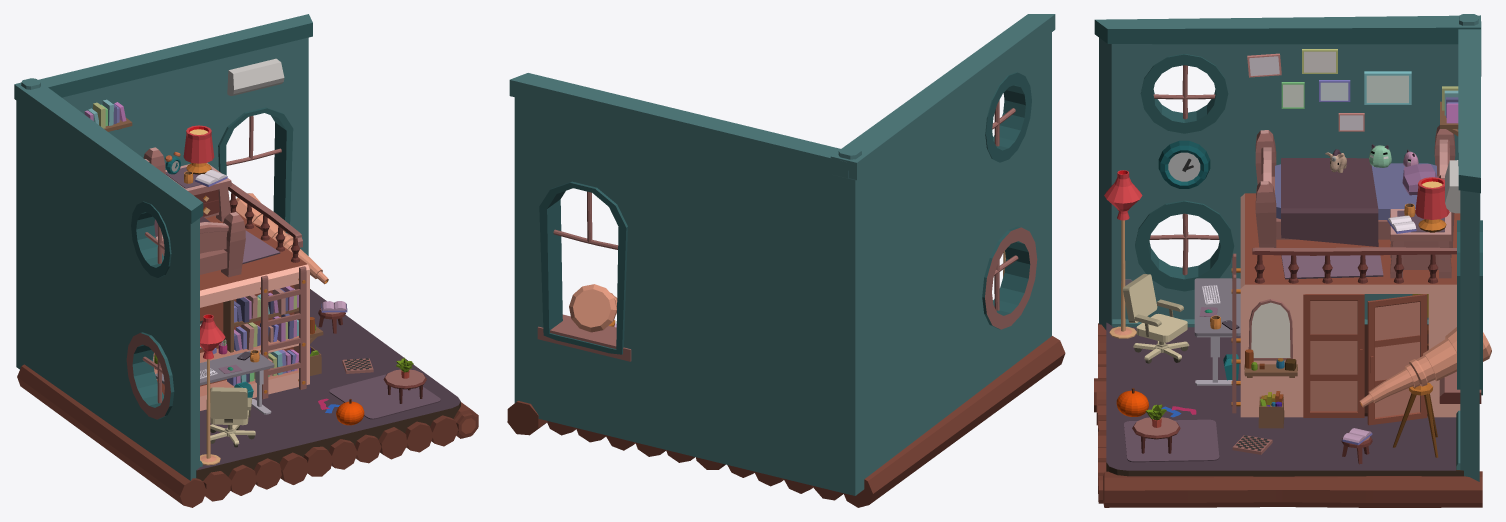
The model's file is bedroom-SKETCH.fbx.
3 renders of one model, left to right at view 1: azimuth 30°, elevation 25°; view 2: azimuth 150°, elevation 25°; view 3: azimuth 270°, elevation 25°, orthographic. The views are drawn at different scales.
Visible parts, largest first — view 1: wall.001, wall, floor, floor.001, second-floor, books, window.001, bed, ladder, Carpet.001, window, chair (+13 smaller); view 2: wall, wall.001, floor.001, window.001, window, window.002, telescope; view 3: wall.001, floor, bed, floor.001, second-floor, wall, cabinet-door, cabinet-door.001, pictures, window.001, window, telescope (+21 smaller).
Part boxes in pixels (left/top/right/bottom): wall.001: left=14, top=78, right=203, bottom=480; wall: left=38, top=14, right=312, bottom=255; floor: left=196, top=289, right=460, bottom=481; floor.001: left=17, top=364, right=478, bottom=507; second-floor: left=153, top=212, right=309, bottom=410; books: left=227, top=286, right=298, bottom=385; window.001: left=126, top=332, right=174, bottom=419; bed: left=143, top=147, right=245, bottom=277; ladder: left=260, top=266, right=306, bottom=399; Carpet.001: left=329, top=374, right=440, bottom=419; window: left=131, top=201, right=171, bottom=277; chair: left=210, top=387, right=255, bottom=447; wall: left=509, top=73, right=848, bottom=490; wall.001: left=830, top=14, right=1055, bottom=495; floor.001: left=507, top=336, right=1065, bottom=507; window.001: left=982, top=226, right=1037, bottom=329; window: left=985, top=72, right=1031, bottom=162; window.002: left=537, top=191, right=631, bottom=361; telescope: left=569, top=284, right=617, bottom=332; wall.001: left=1094, top=14, right=1480, bottom=329; floor: left=1106, top=322, right=1463, bottom=476; bed: left=1255, top=125, right=1455, bottom=247; floor.001: left=1094, top=323, right=1482, bottom=507; second-floor: left=1240, top=193, right=1460, bottom=417; wall: left=1456, top=21, right=1482, bottom=481; cabinet-door: left=1303, top=294, right=1364, bottom=417; cabinet-door.001: left=1367, top=294, right=1427, bottom=425; pictures: left=1247, top=49, right=1411, bottom=131; window.001: left=1135, top=200, right=1234, bottom=291; window: left=1140, top=54, right=1228, bottom=133; telescope: left=1359, top=327, right=1491, bottom=457.
Bounding box in the file's own units: 336 × 324 × 344.
Materials: 1 (1 with a texture image).
